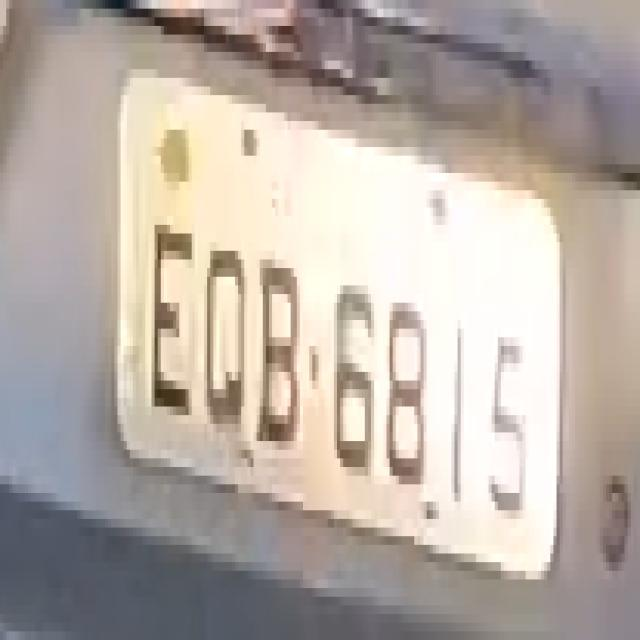Placa_mercosul_carro: (115, 69, 563, 578)
